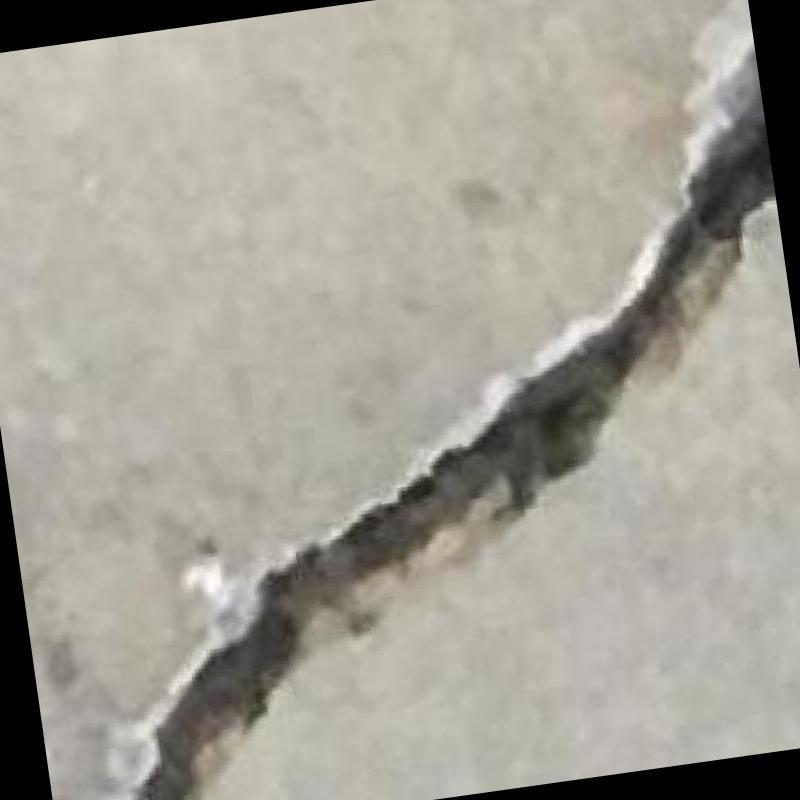pothole: (141, 76, 773, 800)
